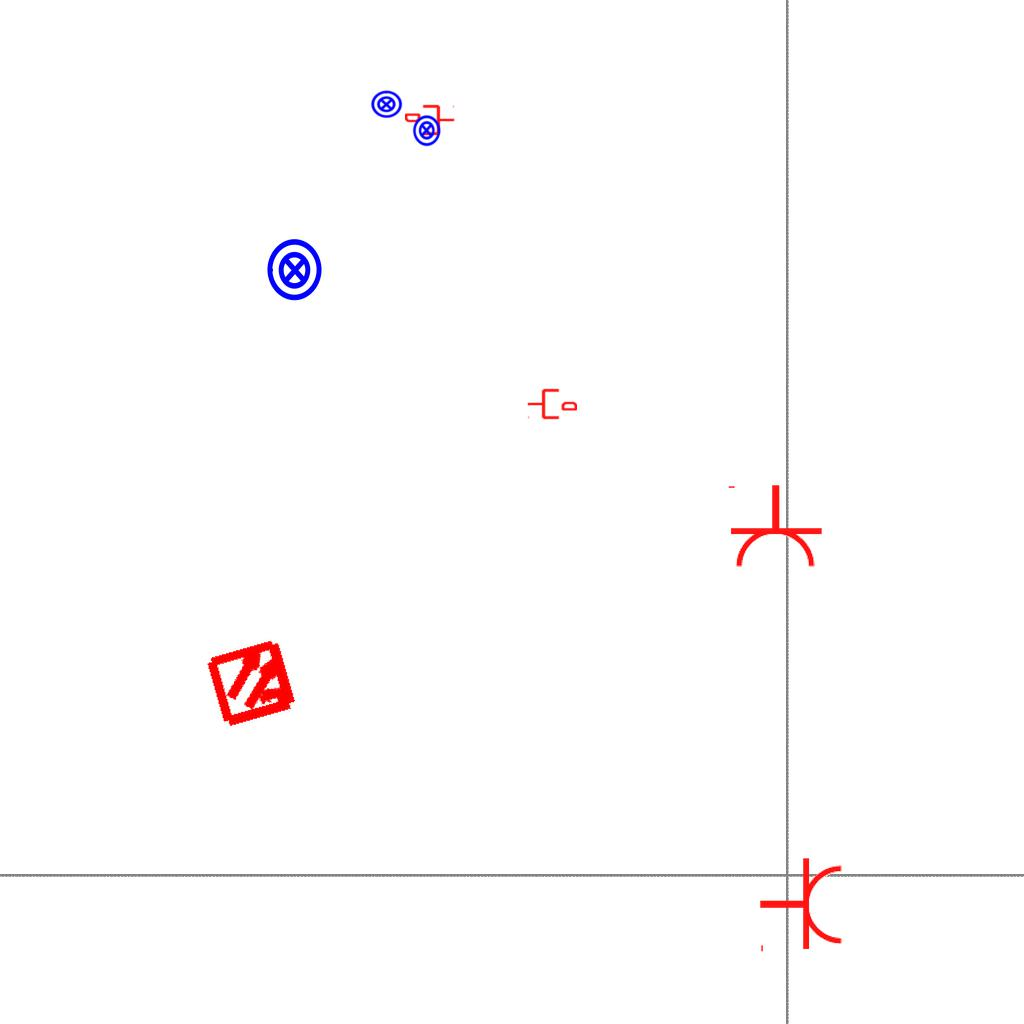Datenanschluss_einfach: (405, 103, 455, 137), (527, 387, 577, 421)
OT_Multisensormelder_(Kombination_RMO_WMD): (183, 612, 324, 753)
Schukosteckdose_einfach: (758, 856, 845, 956), (724, 483, 824, 570)
Taster_beleuchtet: (262, 237, 328, 303), (370, 88, 403, 121), (410, 114, 443, 147)
